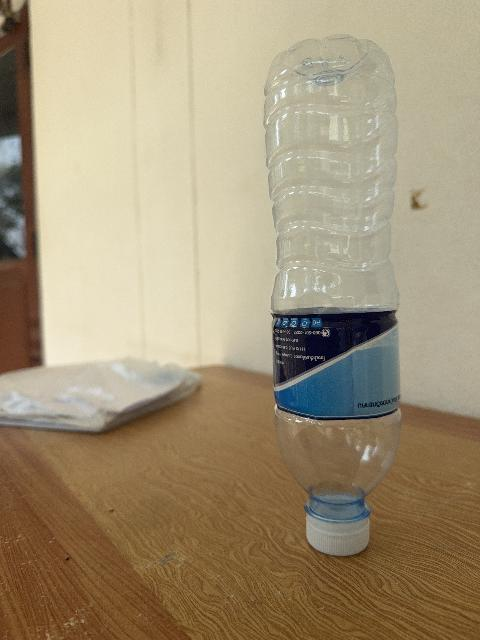bottle: (265, 36, 400, 555)
